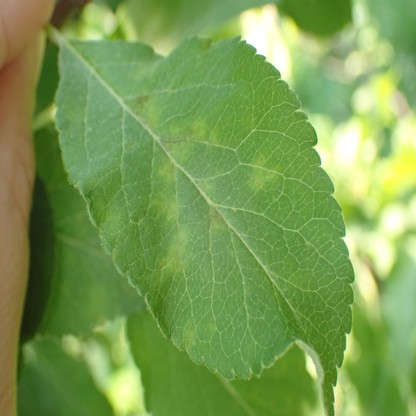scab: (162, 117, 207, 156), (155, 231, 188, 279), (250, 153, 277, 189), (130, 94, 157, 128), (151, 192, 178, 220), (157, 151, 177, 179), (209, 206, 227, 228), (181, 327, 195, 347)
